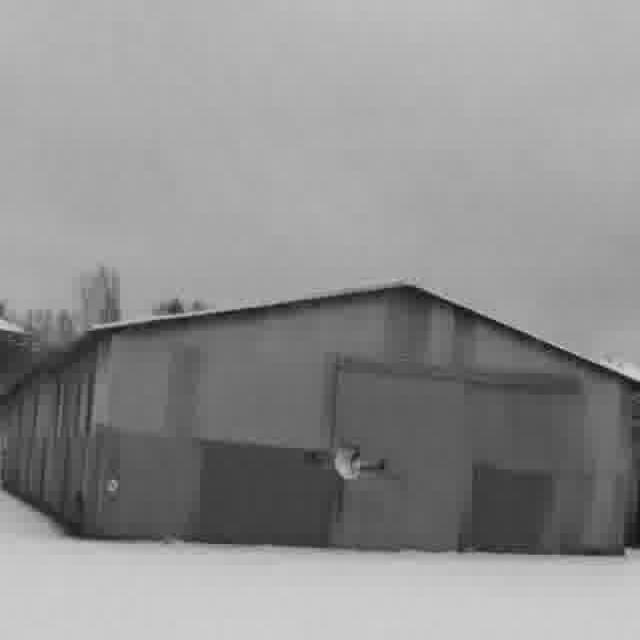drone: (293, 428, 406, 524)
